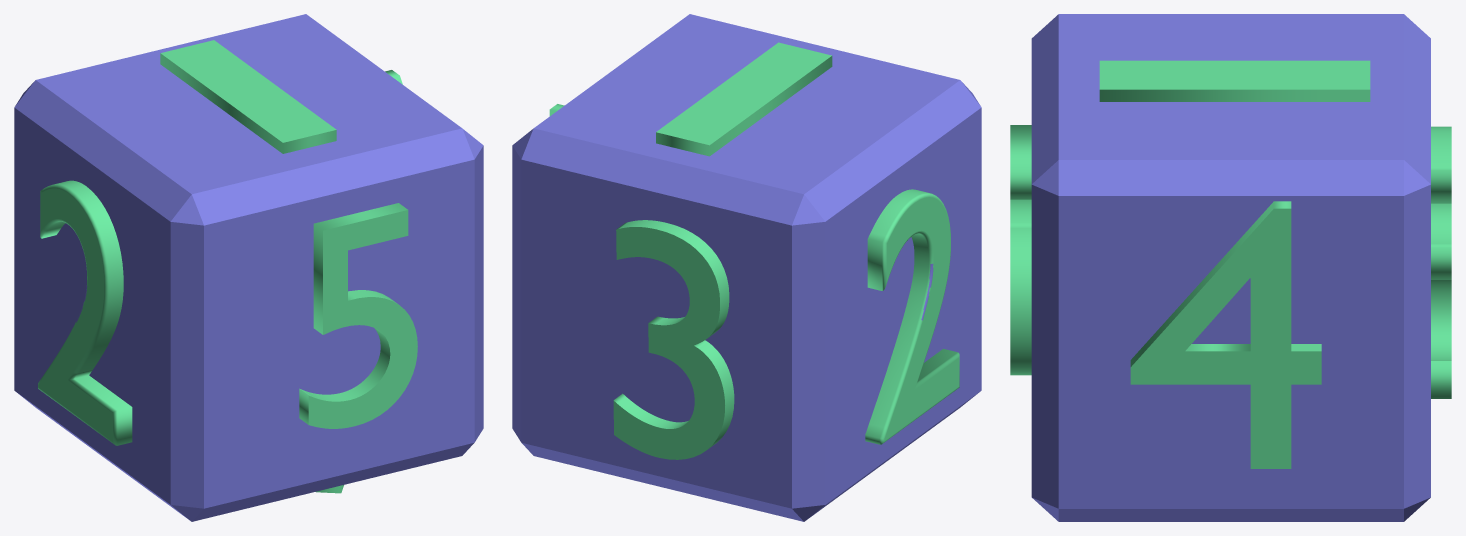
File: Bones.fbx
3 renders of one model, left to right at view 1: azimuth 30°, elevation 25°; view 2: azimuth 150°, elevation 25°; view 3: azimuth 270°, elevation 25°, orthographic. The views are drawn at different scales.
Parts seen in each view (by area): view 1: Cube; view 2: Cube; view 3: Cube.
Boxes of the visible parts, x1,y1,x2,y2 form: Cube: [14, 14, 483, 521]; Cube: [512, 14, 981, 521]; Cube: [1010, 14, 1451, 521].
Size of the model in its own units: 392 by 384 by 394.
